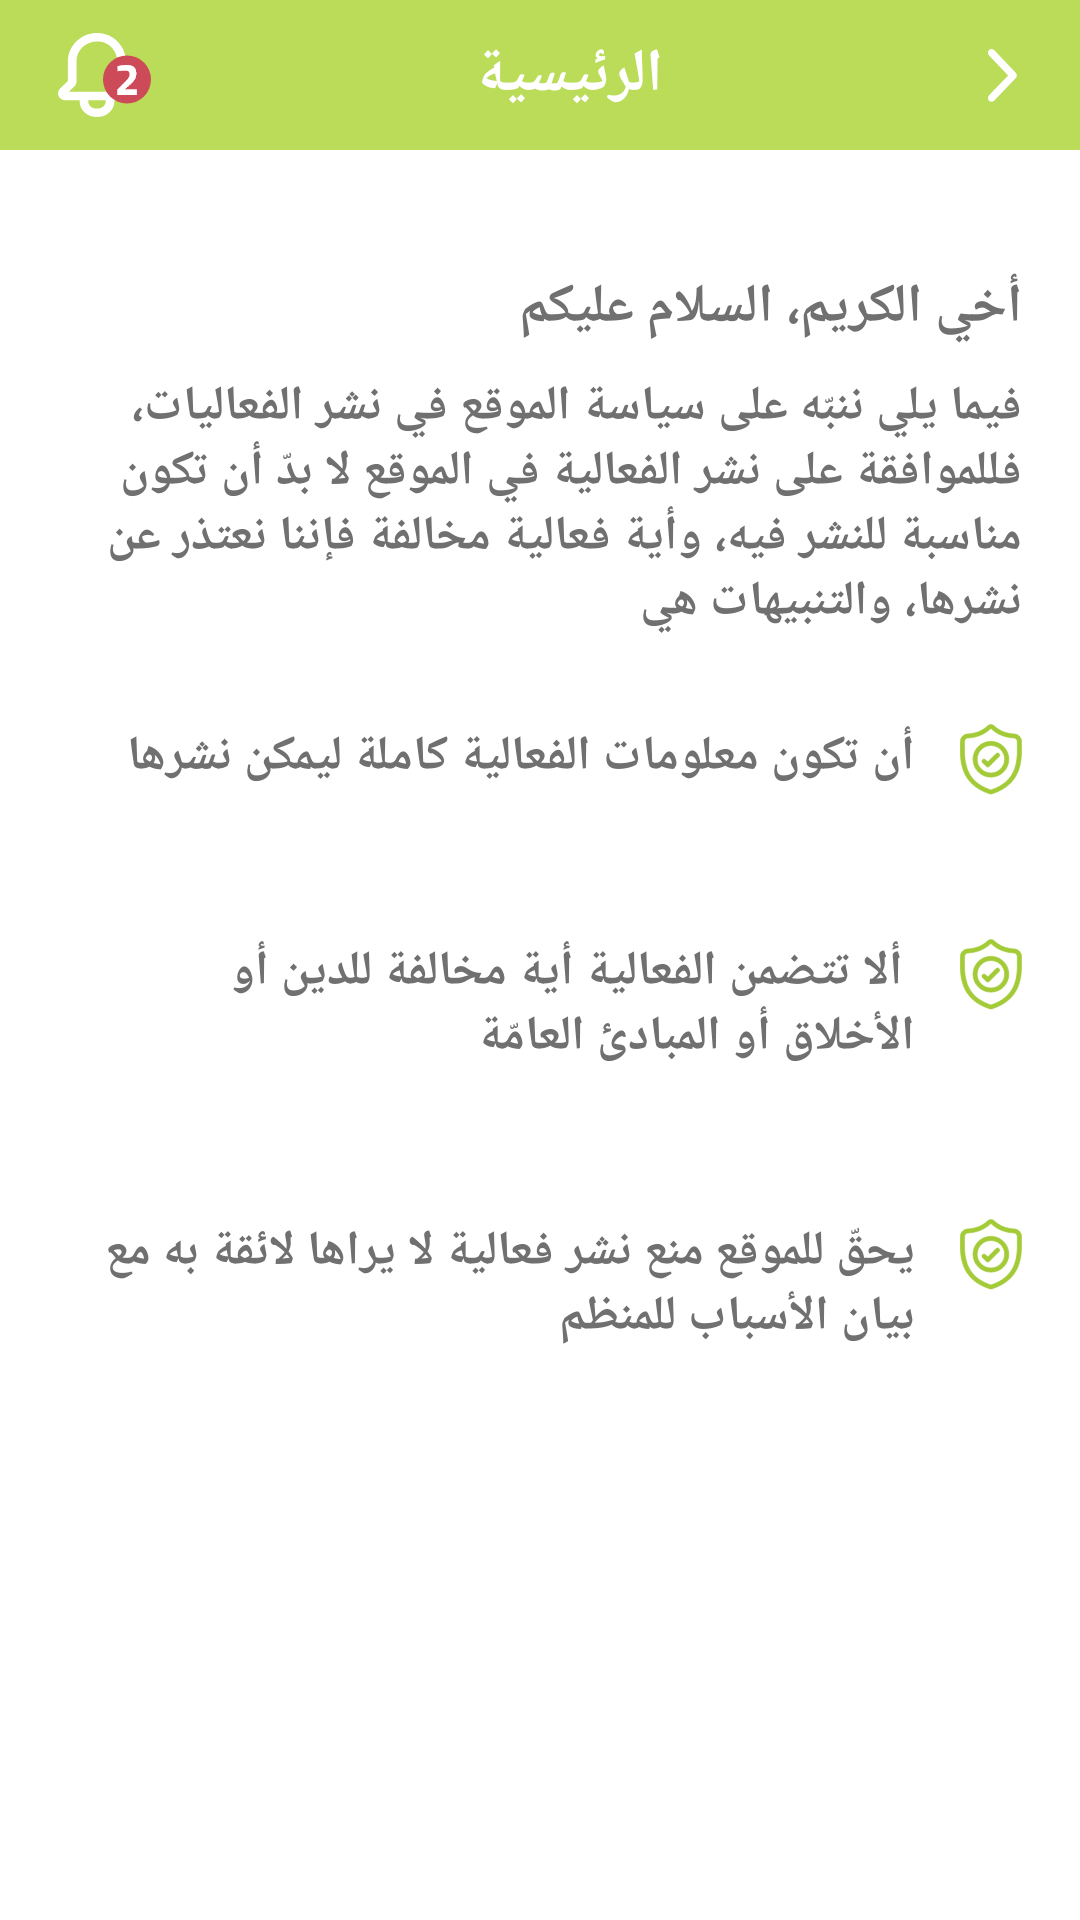

Point at icon controls on the screen. Image size 1080*1920, points as [x,y].
shield: [991,759], [991,974], [991,1254]
